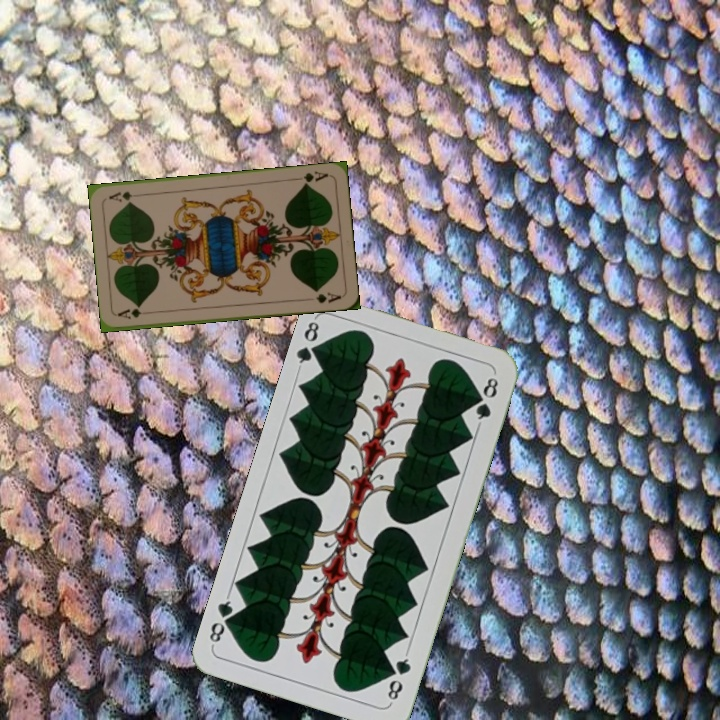G8: (292, 314, 326, 372), (383, 648, 414, 706)
GA: (291, 167, 330, 188), (114, 305, 155, 322)
